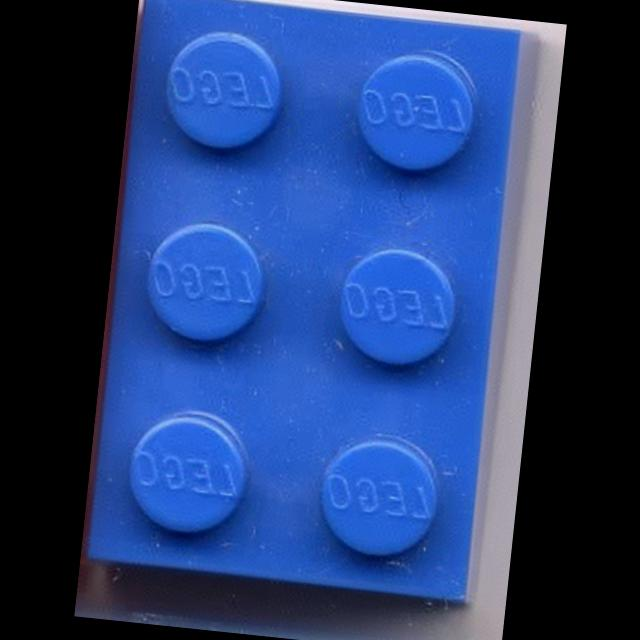2x3: (84, 0, 533, 603), (86, 0, 528, 601)
